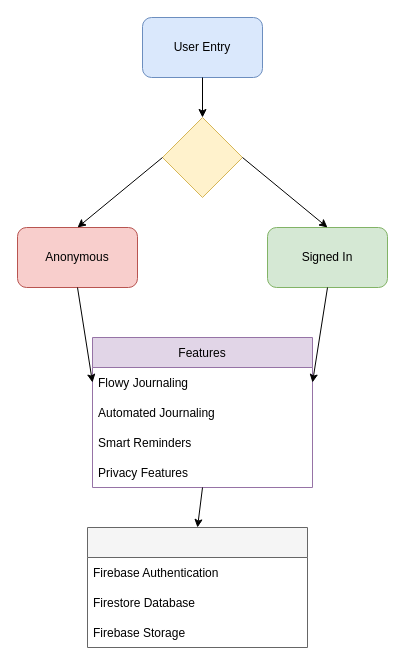
Image size: 405x665. Some labels were removed from this diagram. The shapes that lost their labels are listed below. From the top down, each one's box as (x1, y1, x2, y2) in pixels, then its label:
(162, 116, 242, 198): Authentication
(86, 526, 308, 648): Backend Services
